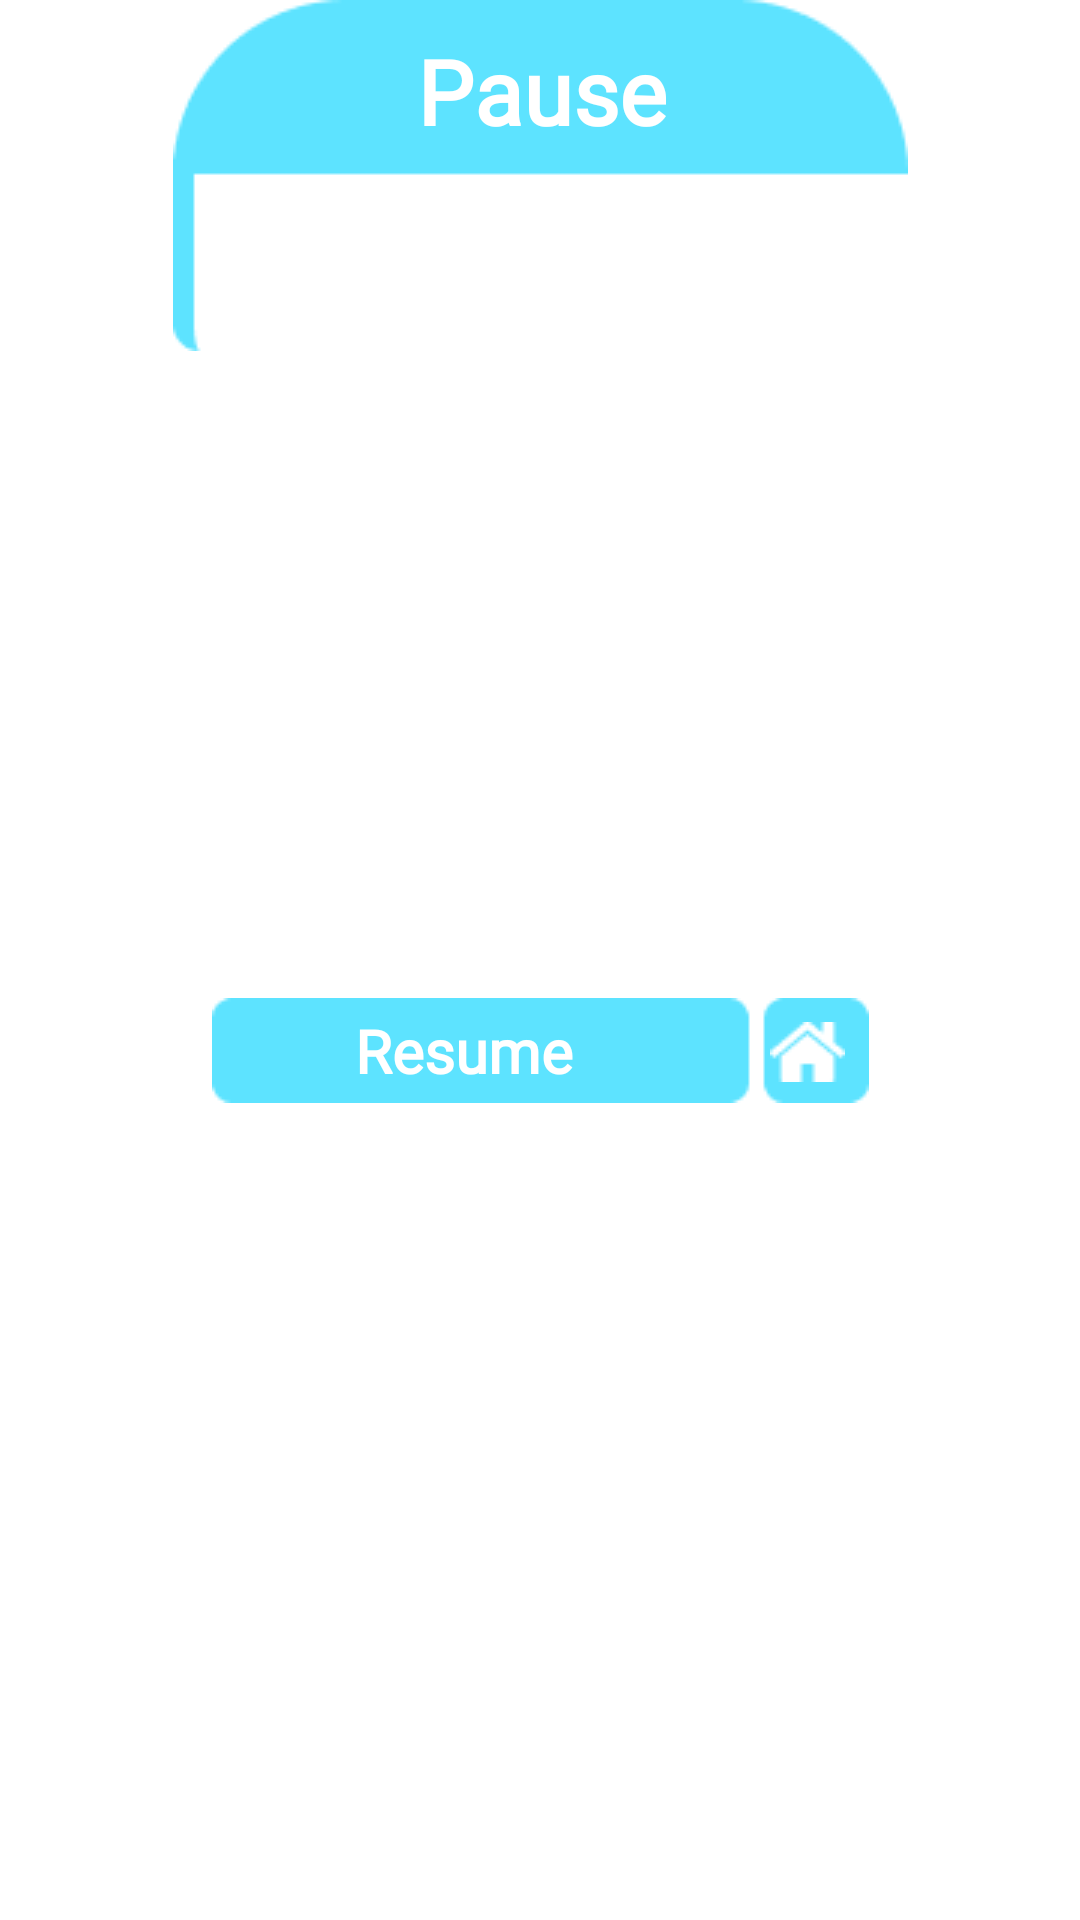

Point at icon controls on the screen. Image size 1080 × 1920, points as [x,y].
home tsr: [816,1050]
